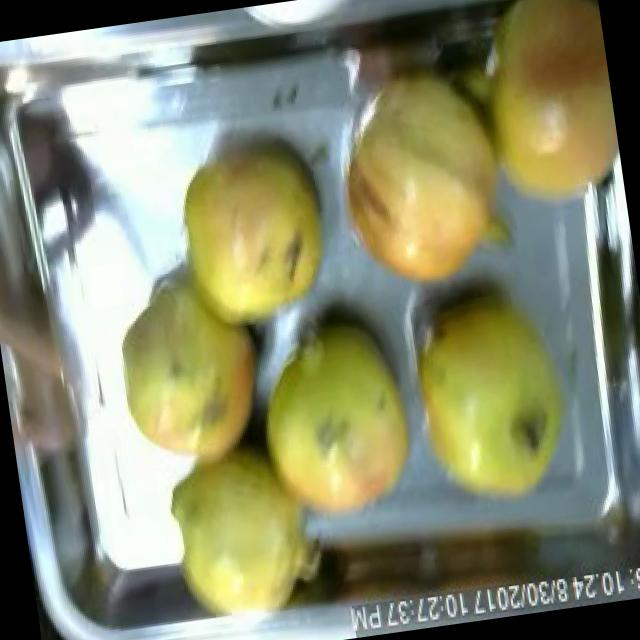fruit: (310, 41, 528, 312), (384, 266, 594, 528), (146, 114, 354, 360), (128, 422, 349, 640), (235, 301, 432, 540), (92, 261, 286, 493)
